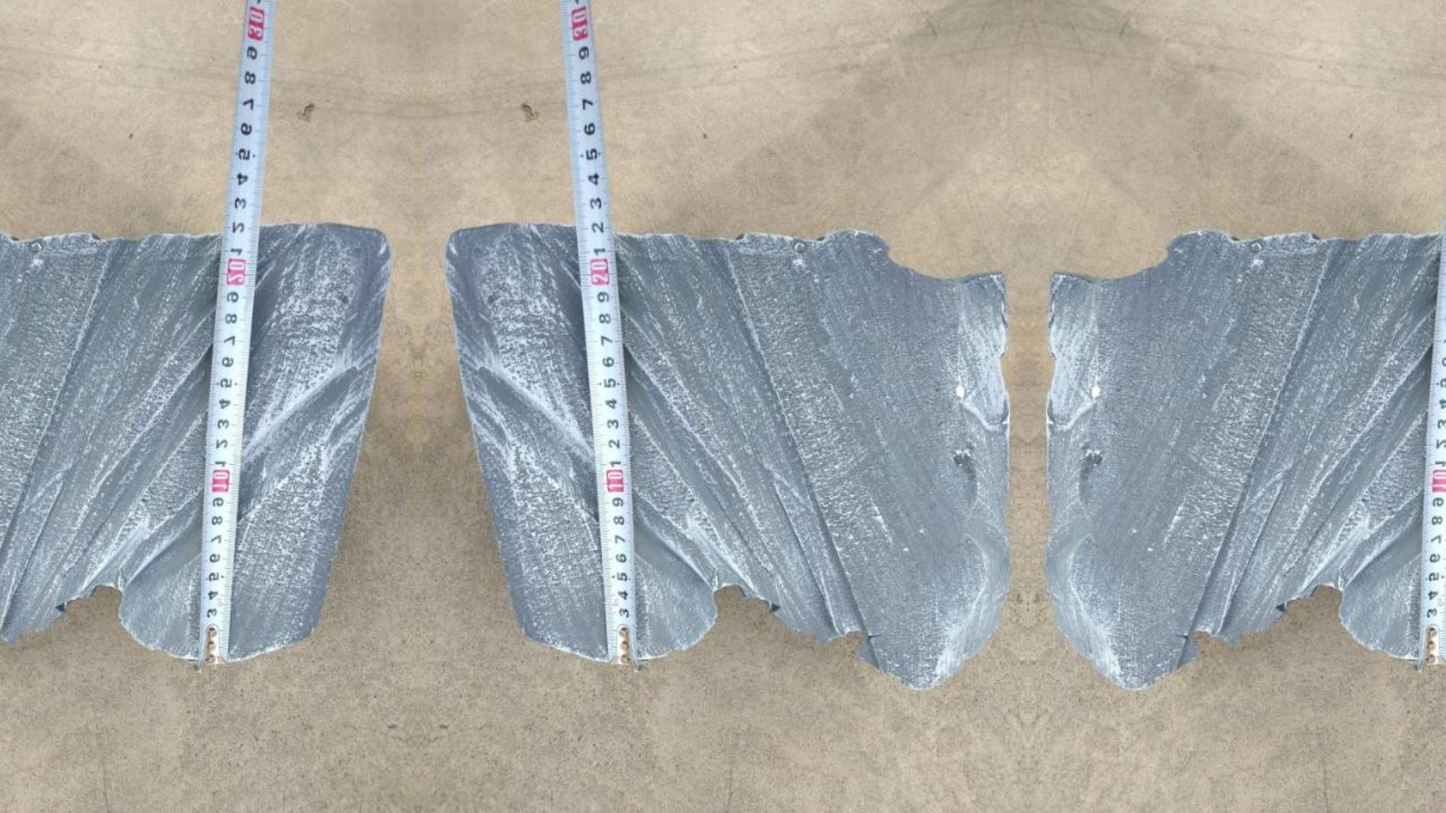rock: (1046, 231, 1439, 688), (617, 231, 1009, 688), (0, 234, 219, 661), (225, 225, 390, 659), (445, 225, 609, 658)
